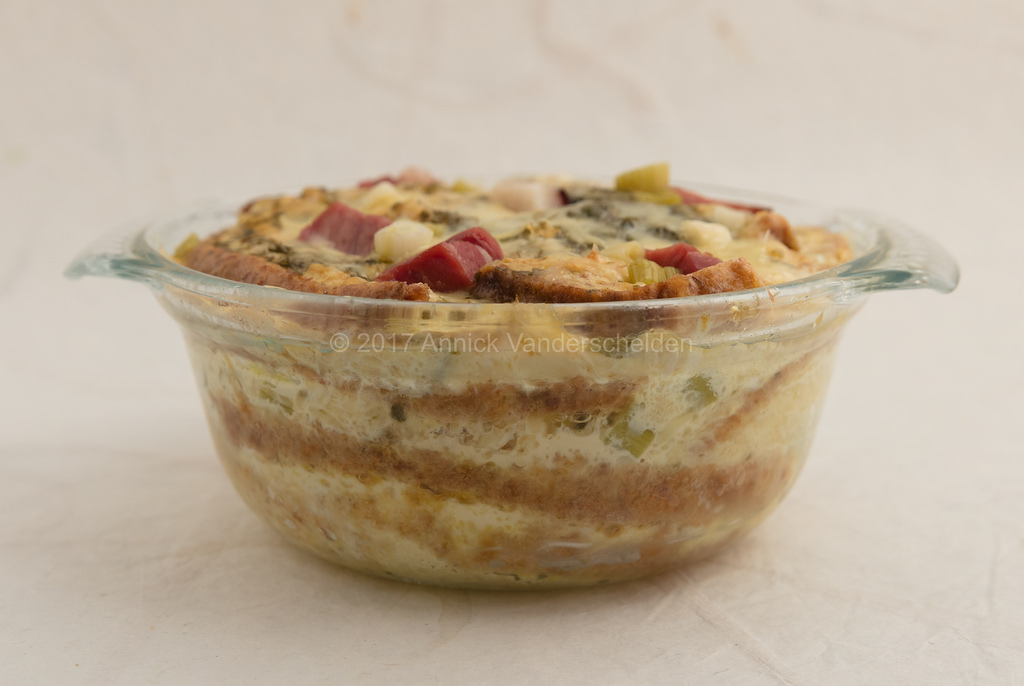slice of bread: (240, 189, 793, 289)
